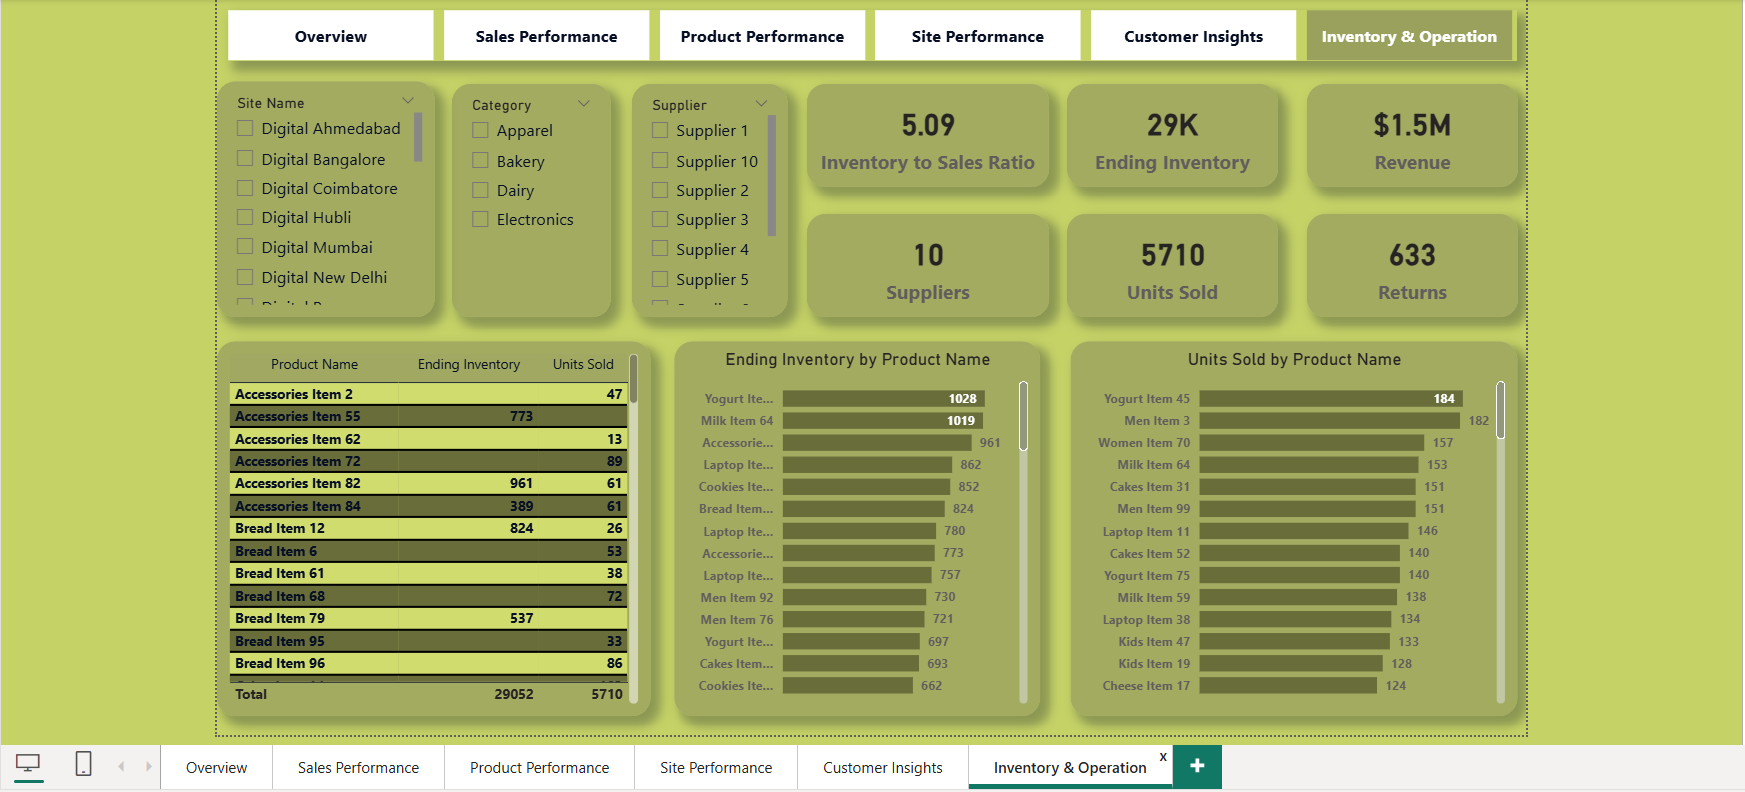

The page's visual inventory and layout, read from the dashboard file:
{"tool":"powerbi","page":{"name":" Inventory & Operation","canvas":[1280,720],"ordinal":5},"visuals":[{"type":"barChart","fields":{"Category":["Product_Information.Product Name"],"Y":["All Measurs.Ending Inventory"]},"box":[448.1,334.8,357.4,366.3],"z":0},{"type":"barChart","fields":{"Category":["Product_Information.Product Name"],"Y":["All Measurs.Units Sold"]},"box":[835.7,334.8,436.7,366.3],"z":1000},{"type":"tableEx","fields":{"Values":["Product_Information.Product Name","All Measurs.Ending Inventory","All Measurs.Units Sold"]},"box":[0,334.8,424.1,366.3],"z":2000},{"type":"slicer","fields":{"Values":["Product_Information.Category"]},"box":[230.3,83.1,154.8,227.8],"z":3000},{"type":"slicer","fields":{"Values":["Product_Information.Supplier"]},"box":[406.5,83.1,152.3,227.8],"z":4000},{"type":"pageNavigator","box":[11,11,1261.1,49.4],"z":5000},{"type":"card","fields":{"Values":["All Measurs.Revenue","select"]},"box":[1066,83.1,206.4,100.7],"z":6000},{"type":"card","fields":{"Values":["All Measurs.Units Sold"]},"box":[831.9,210.2,206.4,100.7],"z":7000},{"type":"card","fields":{"Values":["All Measurs.Returns"]},"box":[1066,210.2,206.4,100.7],"z":8000},{"type":"card","fields":{"Values":["select","All Measurs.Ending Inventory"]},"box":[831.9,83.1,206.4,100.7],"z":9000},{"type":"card","fields":{"Values":["select","All Measurs.Inventory to Sales Ratio"]},"box":[577.7,83.1,236.6,100.7],"z":10000},{"type":"card","fields":{"Values":["select","Product_Information.Suppliers"]},"box":[577.7,210.2,236.6,100.7],"z":11000},{"type":"slicer","fields":{"Values":["Site_Details.Site Name"]},"box":[0,80.6,212.7,230.3],"z":12000}]}

Visuals, with their boxes on the page's 1280x720 design canvas (x1, y1, x2, y2). These are canvas units, not pixel positions in the 1745x792 screenshot, which may show the page scaled, cropped or inside an application window:
barChart - Product_Information.Product Name x All Measurs.Ending Inventory: select_region(448, 335, 806, 701)
barChart - Product_Information.Product Name x All Measurs.Units Sold: select_region(836, 335, 1272, 701)
tableEx - Product_Information.Product Name x All Measurs.Ending Inventory: select_region(0, 335, 424, 701)
slicer - Product_Information.Category: select_region(230, 83, 385, 311)
slicer - Product_Information.Supplier: select_region(406, 83, 559, 311)
pageNavigator: select_region(11, 11, 1272, 60)
card - All Measurs.Revenue x select: select_region(1066, 83, 1272, 184)
card - All Measurs.Units Sold: select_region(832, 210, 1038, 311)
card - All Measurs.Returns: select_region(1066, 210, 1272, 311)
card - select x All Measurs.Ending Inventory: select_region(832, 83, 1038, 184)
card - select x All Measurs.Inventory to Sales Ratio: select_region(578, 83, 814, 184)
card - select x Product_Information.Suppliers: select_region(578, 210, 814, 311)
slicer - Site_Details.Site Name: select_region(0, 81, 213, 311)
